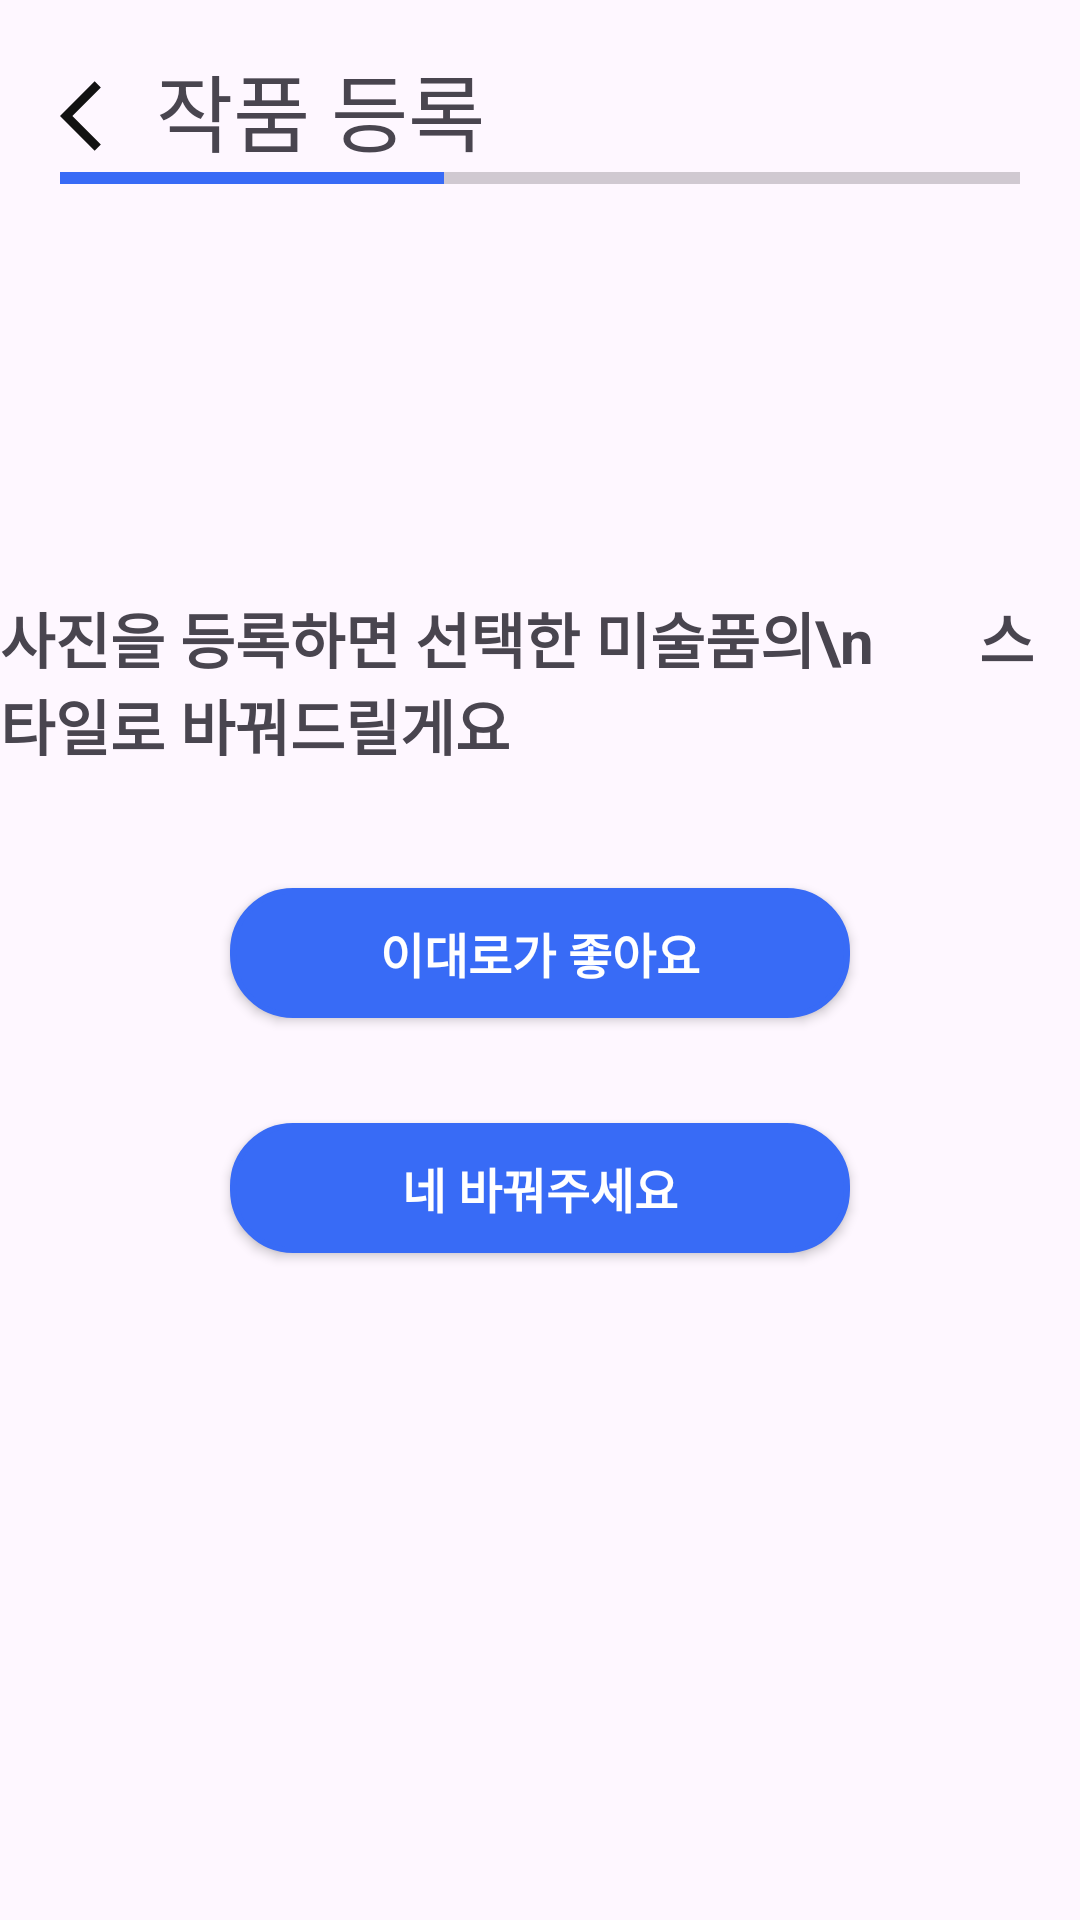

Screen size 1080w x 1920h. Icon name, then its center in pixels as point (x, y):
arrow back: point (80, 116)
